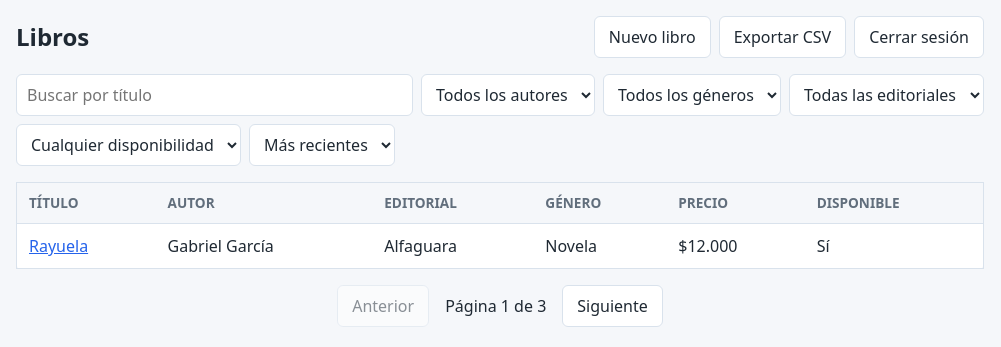
Test: Libros › pagina contra el servidor
Expected: the text "Página 1 de 3" is shown, [445,294,546,318]
Expected: the button "Anterior" is disabled, [337,285,429,327]
Click the button "Siguiente": (613, 306) [562,285,663,327]
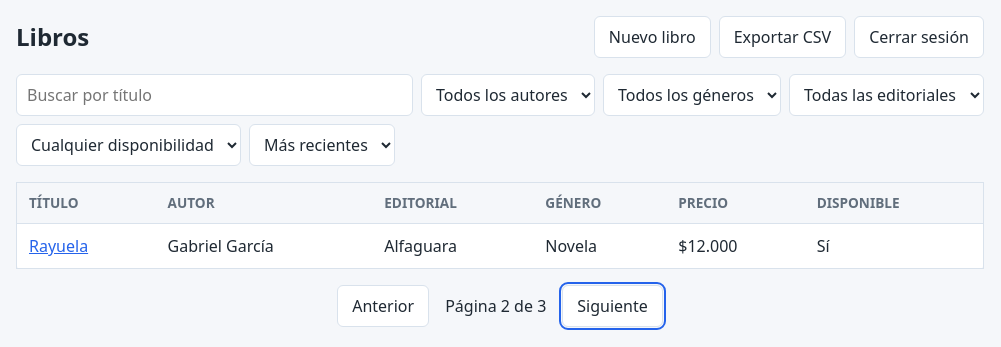
Result: the text "Página 2 de 3" is shown at [445,294,546,318]
